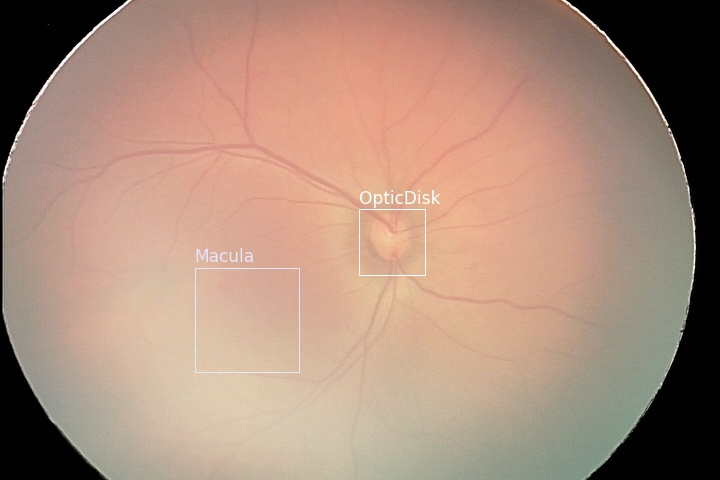Macula: (194, 267, 298, 371)
OpticDisk: (358, 208, 424, 274)
